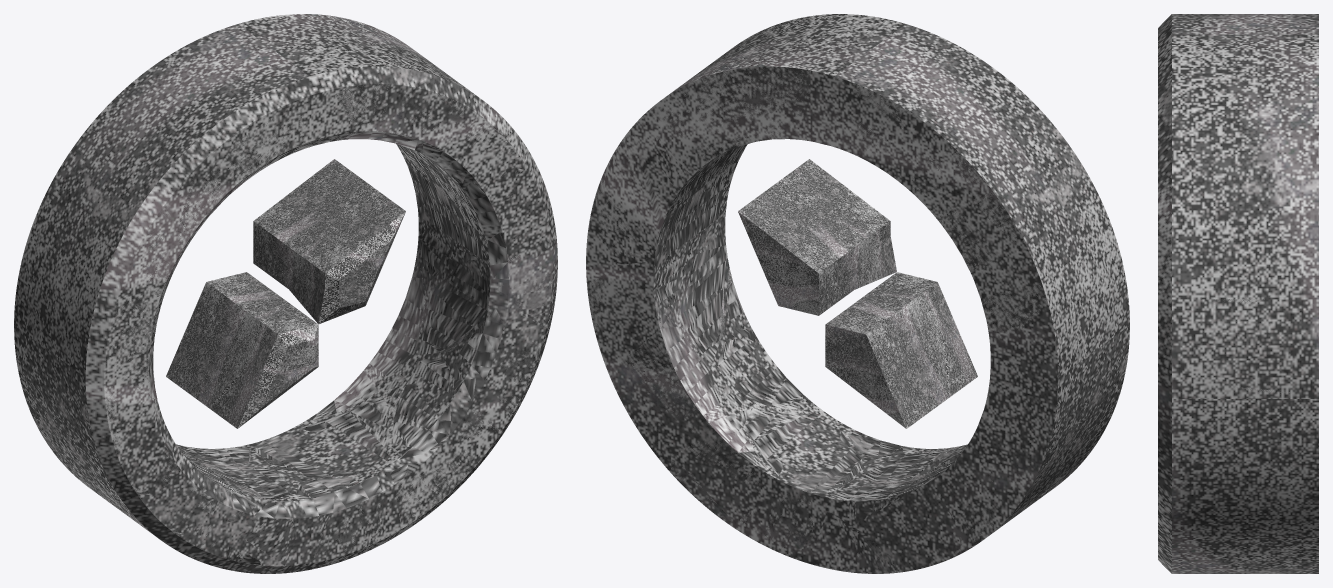
Rendered from The Lodestone Compass.glb.
3 renders of one model, left to right at view 1: azimuth 30°, elevation 25°; view 2: azimuth 150°, elevation 25°; view 3: azimuth 270°, elevation 25°, orthographic. The views are drawn at different scales.
Visible parts, largest first — view 1: Mesh_0.002, Mesh_0.002_cell.002, Mesh_0.002_cell.097, Mesh_0.002_cell.030, Mesh_0.002_cell.073, Mesh_0.002_cell.038, Mesh_0.002_cell.054, Mesh_0.002_cell.035, Mesh_0.002_cell.039, Mesh_0.002_cell.031, Mesh_0.002_cell.001, Mesh_0.002_cell.056 (+23 smaller); view 2: Mesh_0.002, Mesh_0.002_cell.058, Mesh_0.002_cell.002, Mesh_0.002_cell.031, Mesh_0.002_cell.029, Mesh_0.002_cell.077, Mesh_0.002_cell.097, Mesh_0.002_cell.030, Mesh_0.002_cell.013, Mesh_0.002_cell.076, Mesh_0.002_cell.005, Mesh_0.002_cell.038 (+13 smaller); view 3: Mesh_0.002, Mesh_0.002_cell.089.
Part boxes in pixels (left/top/right/bottom): Mesh_0.002: left=14, top=14, right=557, bottom=573; Mesh_0.002_cell.002: left=172, top=272, right=284, bottom=387; Mesh_0.002_cell.097: left=418, top=263, right=489, bottom=354; Mesh_0.002_cell.030: left=254, top=396, right=388, bottom=477; Mesh_0.002_cell.073: left=297, top=475, right=384, bottom=562; Mesh_0.002_cell.038: left=392, top=358, right=450, bottom=459; Mesh_0.002_cell.054: left=282, top=261, right=384, bottom=381; Mesh_0.002_cell.035: left=458, top=308, right=545, bottom=416; Mesh_0.002_cell.039: left=390, top=443, right=479, bottom=528; Mesh_0.002_cell.031: left=369, top=266, right=424, bottom=377; Mesh_0.002_cell.001: left=416, top=171, right=482, bottom=260; Mesh_0.002_cell.056: left=225, top=99, right=323, bottom=193; Mesh_0.002: left=586, top=14, right=1129, bottom=573; Mesh_0.002_cell.058: left=586, top=127, right=671, bottom=273; Mesh_0.002_cell.002: left=825, top=293, right=932, bottom=424; Mesh_0.002_cell.031: left=619, top=312, right=722, bottom=421; Mesh_0.002_cell.029: left=694, top=66, right=810, bottom=163; Mesh_0.002_cell.077: left=674, top=414, right=766, bottom=515; Mesh_0.002_cell.097: left=678, top=234, right=727, bottom=364; Mesh_0.002_cell.030: left=740, top=408, right=864, bottom=493; Mesh_0.002_cell.013: left=586, top=258, right=686, bottom=359; Mesh_0.002_cell.076: left=739, top=199, right=859, bottom=314; Mesh_0.002_cell.005: left=815, top=511, right=897, bottom=573; Mesh_0.002_cell.038: left=716, top=333, right=806, bottom=410; Mesh_0.002: left=1158, top=14, right=1318, bottom=573; Mesh_0.002_cell.089: left=1178, top=40, right=1270, bottom=43.
Bounding box in the file's own units: 0.2131 × 0.2131 × 0.0613.
3 materials, 3 textured.
